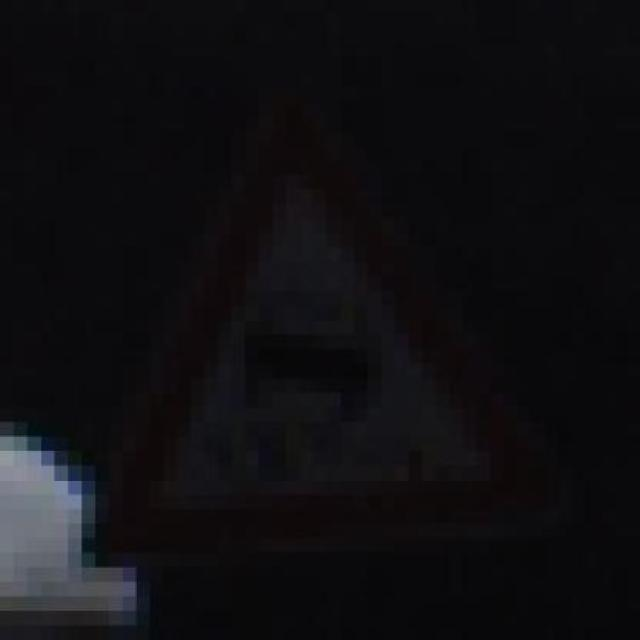Slippery Road Ahead: (70, 73, 519, 582)
